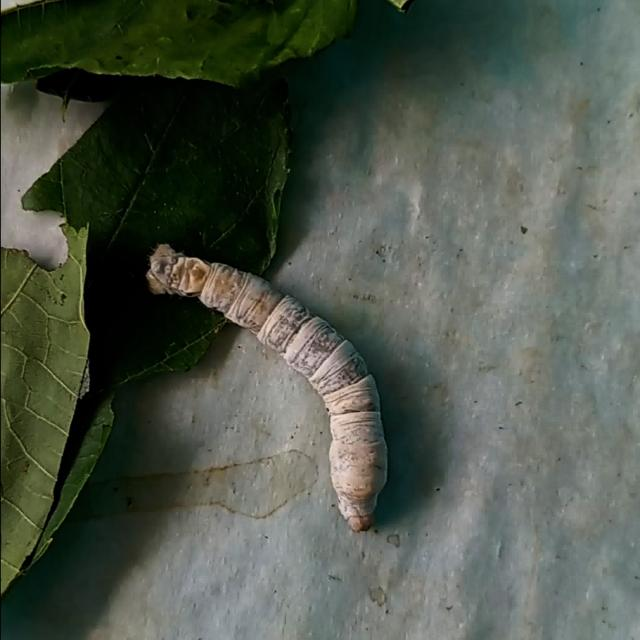Grasserie: (141, 236, 404, 536)
